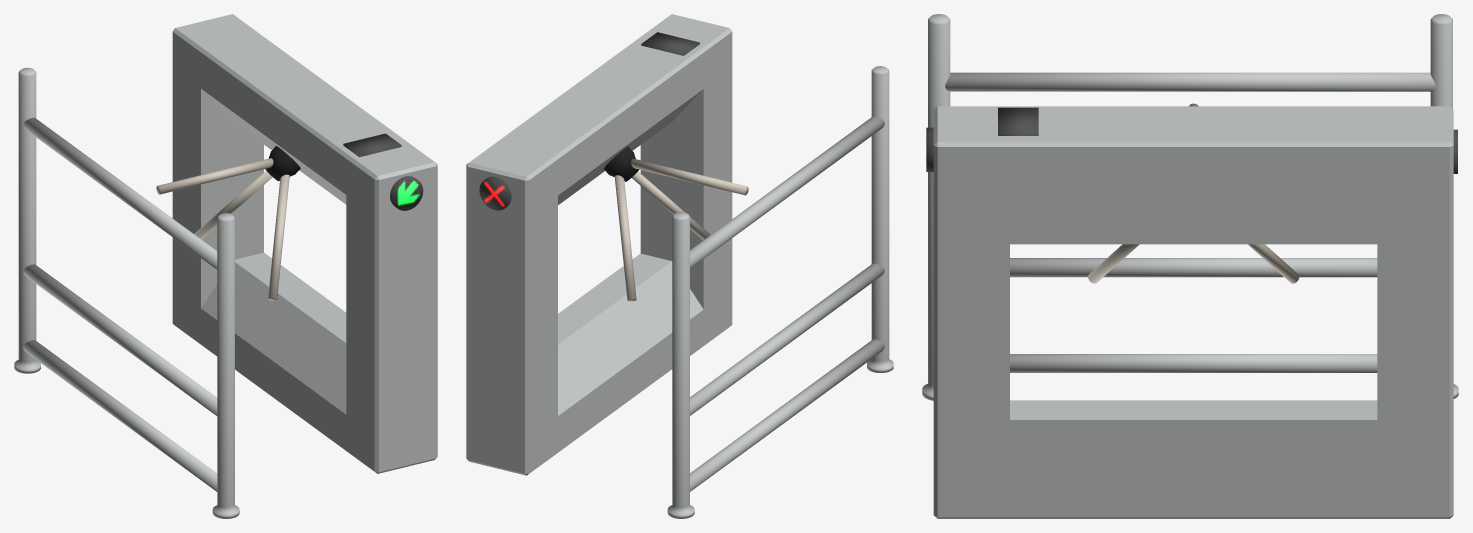
The model's file is subwayturnstile.glb.
3 renders of one model, left to right at view 1: azimuth 30°, elevation 25°; view 2: azimuth 150°, elevation 25°; view 3: azimuth 270°, elevation 25°, orthographic. The views are drawn at different scales.
Parts seen in each view (by area): view 1: Catraca, Protecao, BaseGiratoria; view 2: Catraca, Protecao, BaseGiratoria; view 3: Catraca, Protecao, BaseGiratoria.
Boxes of the visible parts, x1,y1,x2,y2 form: Catraca: (172, 14, 437, 473); Protecao: (14, 67, 239, 518); BaseGiratoria: (156, 146, 300, 300); Catraca: (466, 14, 732, 475); Protecao: (667, 66, 893, 518); BaseGiratoria: (603, 146, 748, 301); Catraca: (926, 106, 1457, 518); Protecao: (922, 14, 1458, 400); BaseGiratoria: (1088, 103, 1299, 283).
Size of the model in its own units: 81.32 by 106 by 134.
Materials: 3 (3 with a texture image).
